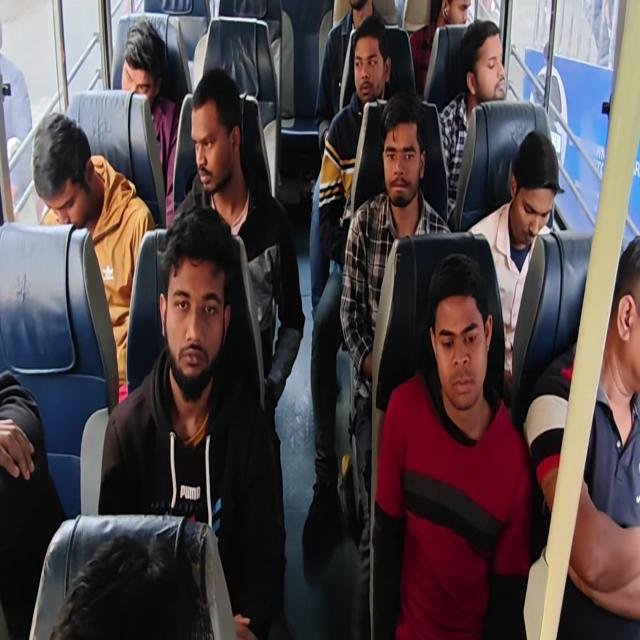person: (55, 525, 214, 640), (157, 205, 237, 411), (420, 252, 492, 423), (29, 101, 96, 242), (179, 62, 248, 192), (509, 125, 568, 250), (378, 90, 432, 219), (608, 225, 640, 428), (116, 14, 162, 118), (456, 23, 514, 104), (354, 13, 399, 114), (427, 0, 488, 31), (336, 0, 384, 26)
